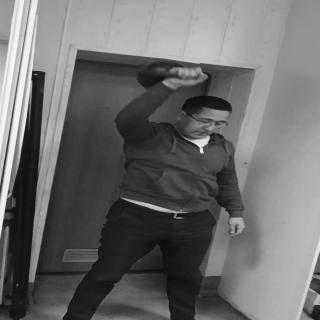kettlebell: (139, 59, 201, 93)
